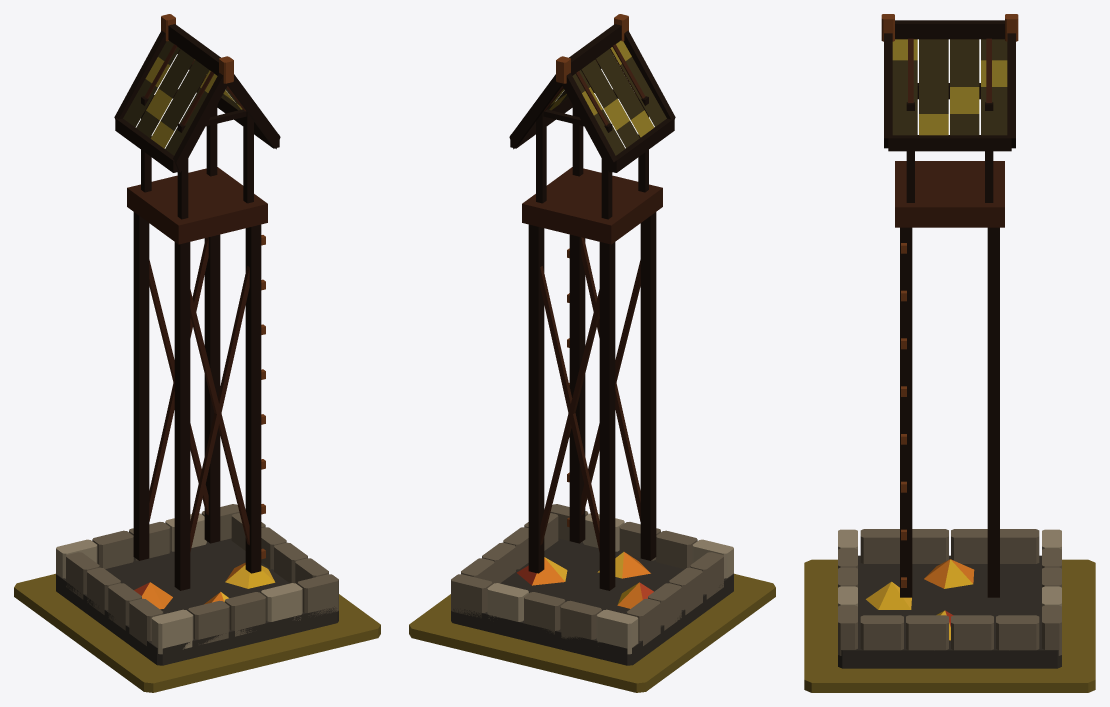
The model's file is tower_t4.glb.
3 renders of one model, left to right at view 1: azimuth 30°, elevation 25°; view 2: azimuth 150°, elevation 25°; view 3: azimuth 270°, elevation 25°, orthographic. The views are drawn at different scales.
Parts seen in each view (by area): view 1: MMR | tower | T04 Architecture.001, MMR | tower | Tier 04 Ground.001, MMR | tower | T04 Roof Supports.001, MMR | tower | T04 Autumn Dressing.001; view 2: MMR | tower | T04 Architecture.001, MMR | tower | Tier 04 Ground.001, MMR | tower | T04 Roof Supports.001, MMR | tower | T04 Autumn Dressing.001; view 3: MMR | tower | T04 Architecture.001, MMR | tower | Tier 04 Ground.001, MMR | tower | T04 Autumn Dressing.001, MMR | tower | T04 Roof Supports.001.
Part boxes in pixels (left/top/right/bottom): MMR | tower | T04 Architecture.001: left=56, top=14, right=338, bottom=665; MMR | tower | Tier 04 Ground.001: left=14, top=573, right=380, bottom=692; MMR | tower | T04 Roof Supports.001: left=141, top=44, right=253, bottom=219; MMR | tower | T04 Autumn Dressing.001: left=134, top=562, right=275, bottom=609; MMR | tower | T04 Architecture.001: left=451, top=14, right=733, bottom=665; MMR | tower | Tier 04 Ground.001: left=409, top=573, right=775, bottom=692; MMR | tower | T04 Roof Supports.001: left=536, top=44, right=648, bottom=219; MMR | tower | T04 Autumn Dressing.001: left=517, top=552, right=653, bottom=608; MMR | tower | T04 Architecture.001: left=838, top=14, right=1061, bottom=668; MMR | tower | Tier 04 Ground.001: left=804, top=559, right=1095, bottom=692; MMR | tower | T04 Autumn Dressing.001: left=866, top=559, right=974, bottom=640; MMR | tower | T04 Roof Supports.001: left=906, top=38, right=993, bottom=202.
Bounding box in the file's own units: 1.3 × 3.02 × 1.3.
Materials: 1 (1 with a texture image).
